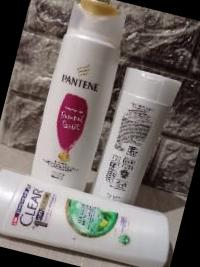Plastik: (31, 0, 125, 190), (93, 67, 181, 204)
